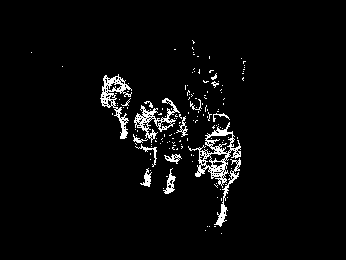person: (199, 112, 241, 227), (158, 95, 186, 195), (130, 99, 158, 192), (100, 68, 131, 142)
